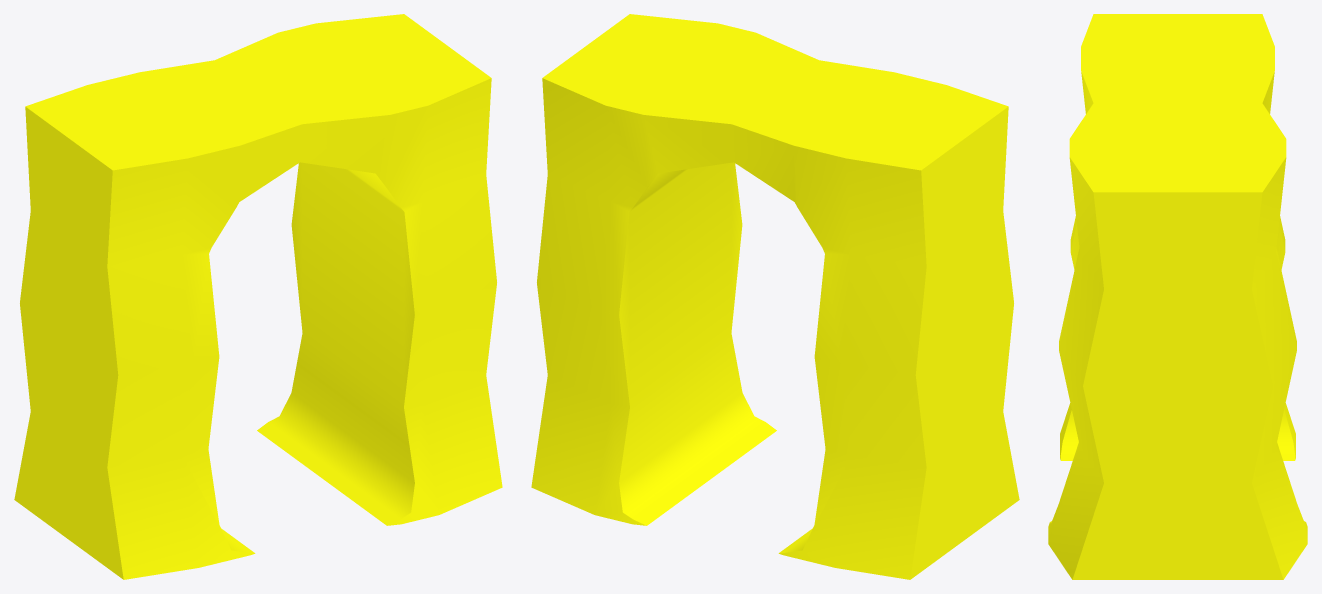
Rendered from 围墙门楼_门_岩石门.glb.
3 views of the same model, side by side, from view 1: azimuth 30°, elevation 25°; view 2: azimuth 150°, elevation 25°; view 3: azimuth 270°, elevation 25° (orthographic). The views are drawn at different scales.
Visible parts, largest first — view 1: gate-rock; view 2: gate-rock; view 3: gate-rock.
Part boxes in pixels (x1,y1,x2,y2): gate-rock: [14, 14, 502, 579]; gate-rock: [531, 14, 1019, 579]; gate-rock: [1048, 14, 1307, 579].
Bounding box in the file's own units: 4 × 4.05 × 2.45.
Materials: 1 (1 with a texture image).
